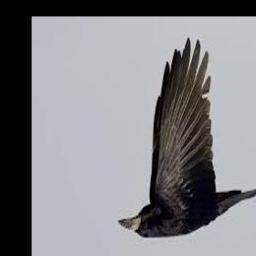Crow: (117, 40, 256, 239)
